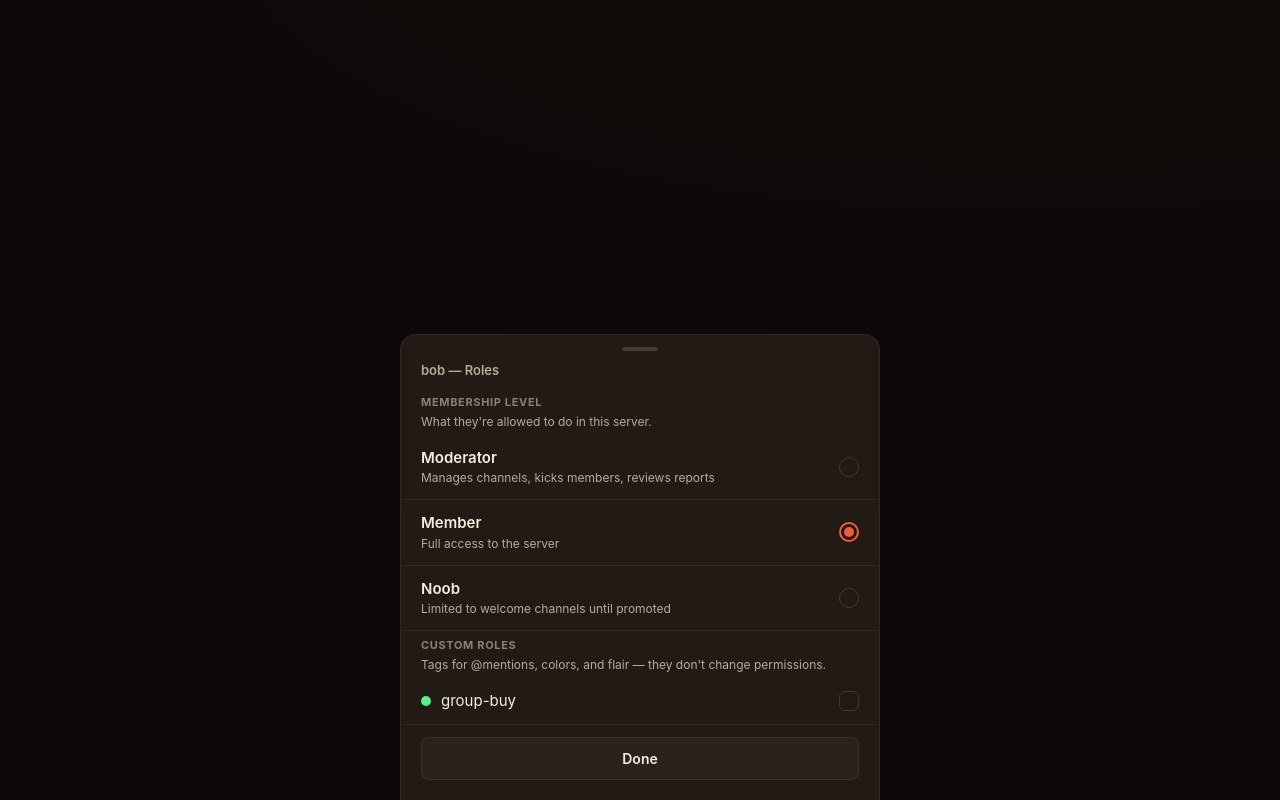
Test: MemberRolesSheet › reverts the optimistic toggle and surfaces the error on failure
Click the button with test id "toggle-role-role-gb-u2" at point(479, 700), box x1=401 y1=678 x2=879 y2=725
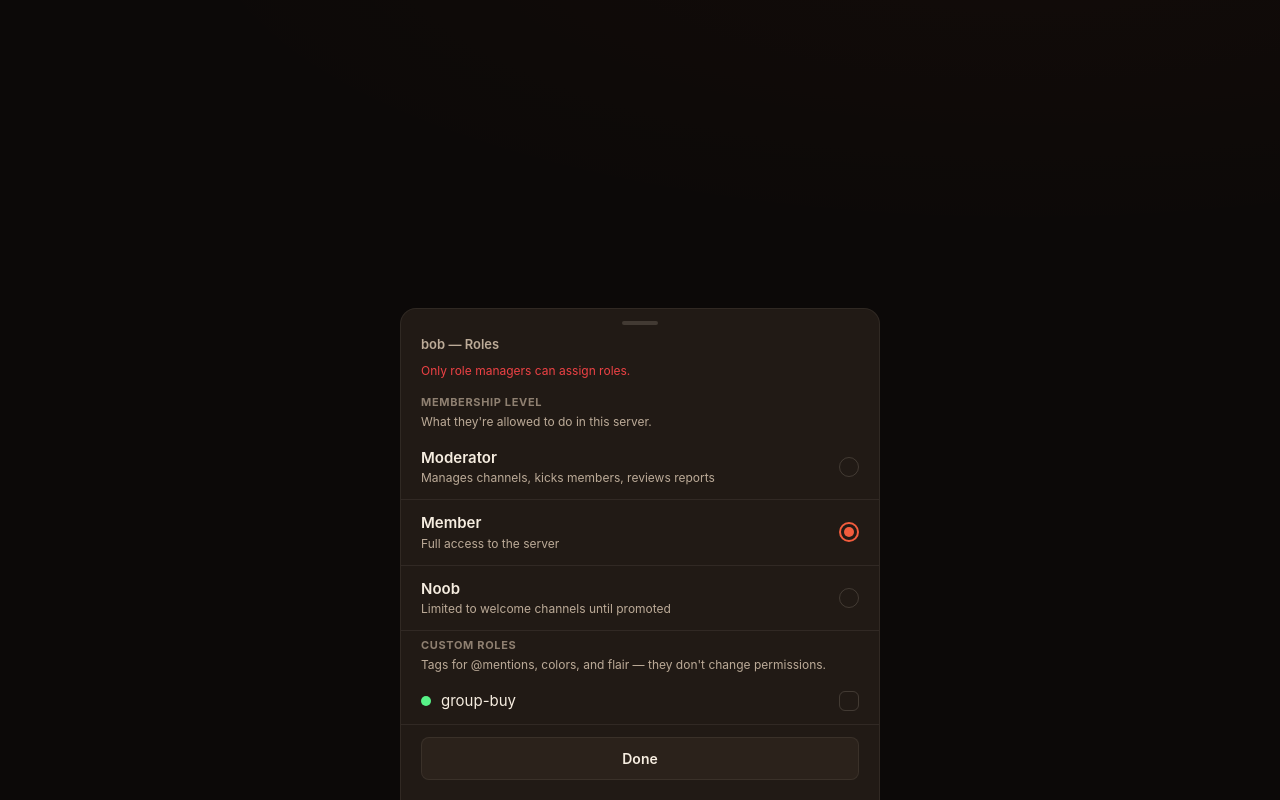
Expected: the text "Only role managers can assign roles." is shown, x1=421 y1=363 x2=630 y2=378
